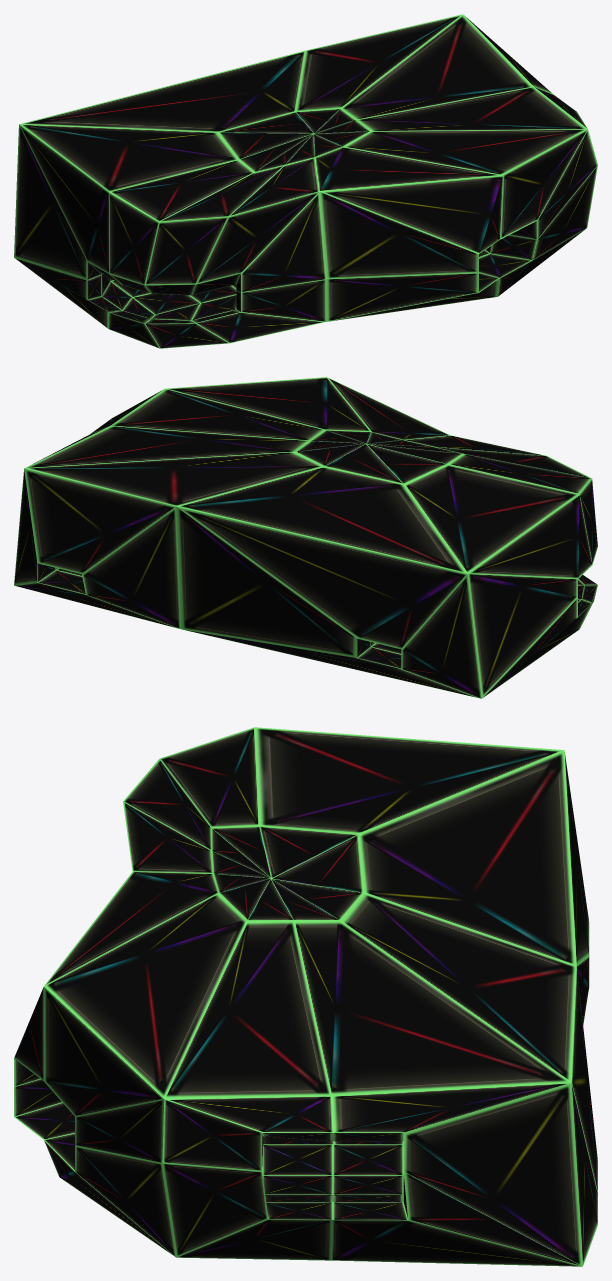
Rendered from bunker_dungeon_entrance_hallway_physics.DAE.
3 renders of one model, top to bottom at view 1: azimuth 30°, elevation 25°; view 2: azimuth 150°, elevation 25°; view 3: azimuth 270°, elevation 25°, orthographic. The views are drawn at different scales.
Parts seen in each view (by area): view 1: Box07; view 2: Box07; view 3: Box07.
Boxes of the visible parts, <box> form: Box07: <box>14,14,597,348</box>; Box07: <box>14,377,597,698</box>; Box07: <box>14,727,597,1266</box>.
Size of the model in its own units: 164 by 48.75 by 113.
